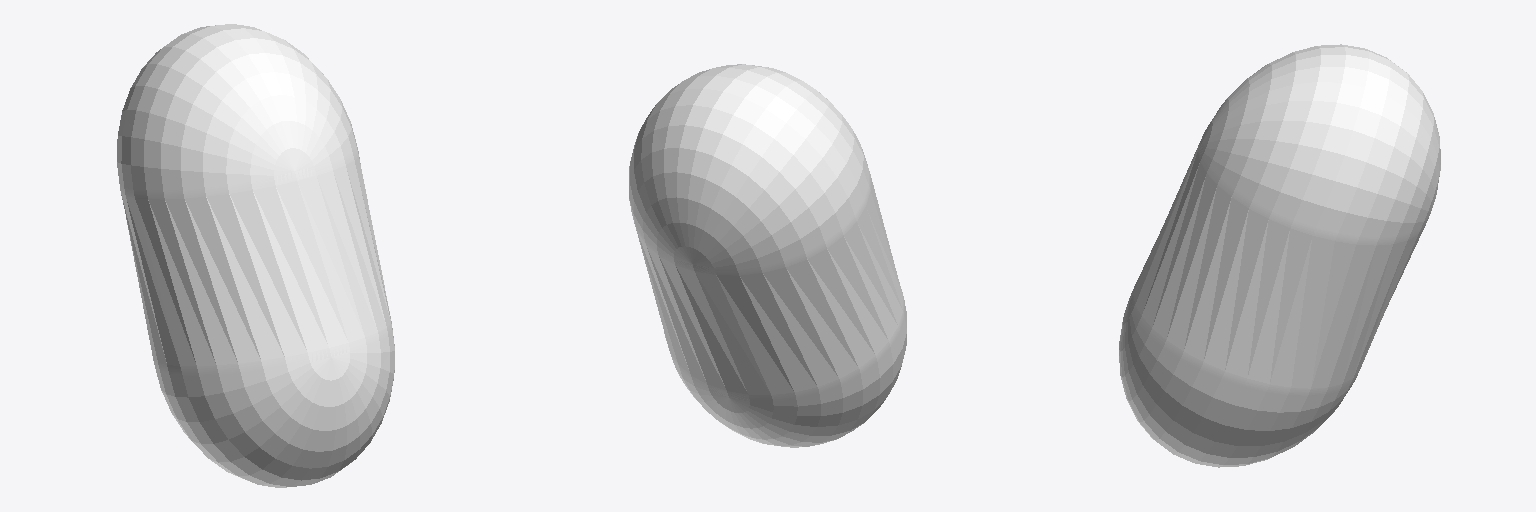
3 renders of one model, left to right at view 1: azimuth 30°, elevation 25°; view 2: azimuth 150°, elevation 25°; view 3: azimuth 270°, elevation 25°, orthographic.
Parts seen in each view (by area): view 1: Object014; view 2: Object014; view 3: Object014.
Part boxes in pixels (bbox=[...]): Object014: bbox=[117, 24, 394, 487]; Object014: bbox=[629, 64, 906, 447]; Object014: bbox=[1119, 44, 1440, 467].
Size of the model in its own units: 4.22 by 7.74 by 5.61.
Materials: 1 (1 with a texture image).